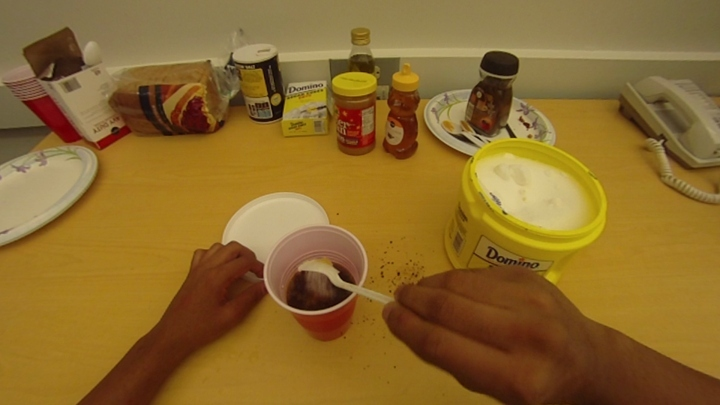hand: (381, 268, 603, 403), (178, 240, 270, 342)
